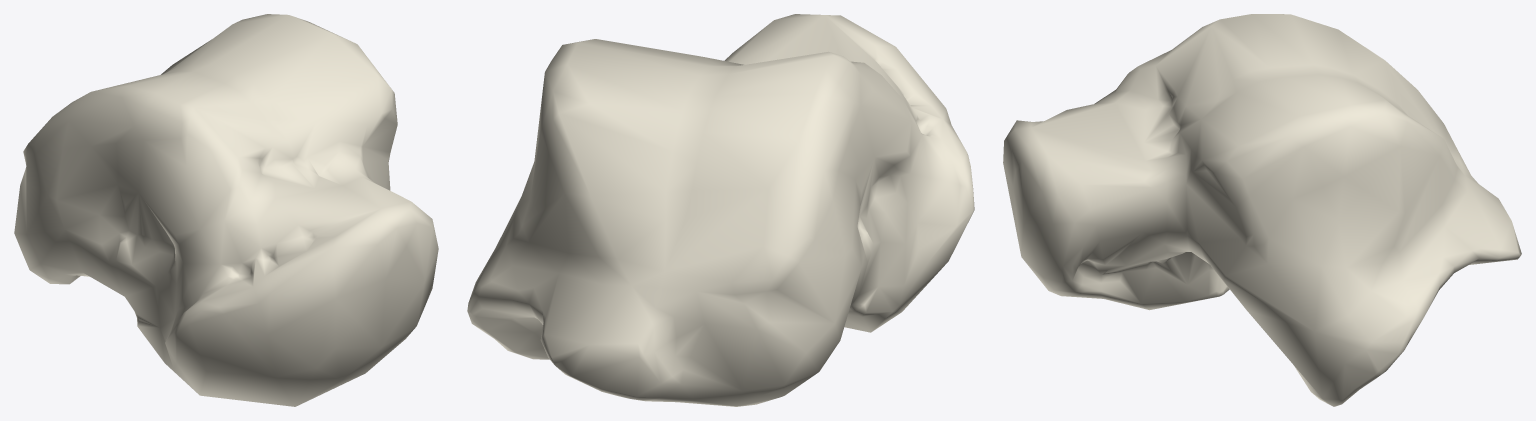
3 renders of one model, left to right at view 1: azimuth 30°, elevation 25°; view 2: azimuth 150°, elevation 25°; view 3: azimuth 270°, elevation 25°, orthographic. The views are drawn at different scales.
Parts seen in each view (by area): view 1: ZA_80a3138971d3eaa8; view 2: ZA_80a3138971d3eaa8; view 3: ZA_80a3138971d3eaa8.
Boxes of the visible parts, x1,y1,x2,y2 form: ZA_80a3138971d3eaa8: (14, 14, 438, 406); ZA_80a3138971d3eaa8: (467, 14, 974, 406); ZA_80a3138971d3eaa8: (1003, 14, 1521, 406).
Bounding box in the file's own units: 0.0421 × 0.0356 × 0.0591.
